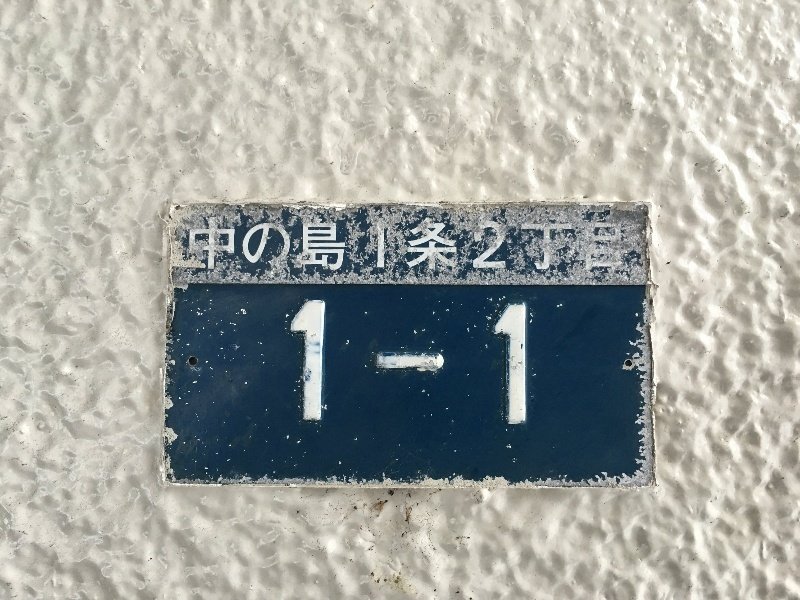text: (513, 298, 529, 426), (305, 298, 320, 426), (321, 298, 336, 426), (337, 298, 352, 426), (353, 298, 368, 426), (369, 298, 384, 426), (385, 298, 400, 426), (401, 298, 416, 426), (417, 298, 432, 426), (433, 298, 448, 426), (449, 298, 464, 426), (465, 298, 480, 426), (481, 298, 496, 426), (497, 298, 512, 426), (290, 298, 304, 426), (193, 220, 208, 272), (209, 220, 224, 272), (225, 220, 240, 272), (241, 220, 256, 272), (257, 220, 272, 272), (273, 220, 288, 272), (289, 220, 304, 272), (305, 220, 320, 272), (321, 220, 336, 272), (337, 220, 352, 272), (353, 220, 368, 272), (369, 220, 384, 272), (385, 220, 400, 272), (401, 220, 416, 272), (417, 220, 432, 272), (433, 220, 448, 272), (449, 220, 464, 272), (465, 220, 480, 272), (481, 220, 496, 272), (497, 220, 512, 272), (513, 220, 528, 272), (529, 220, 544, 272), (545, 220, 560, 272), (561, 220, 576, 272), (577, 220, 592, 272), (593, 220, 608, 272), (609, 220, 624, 272), (188, 220, 192, 272)
